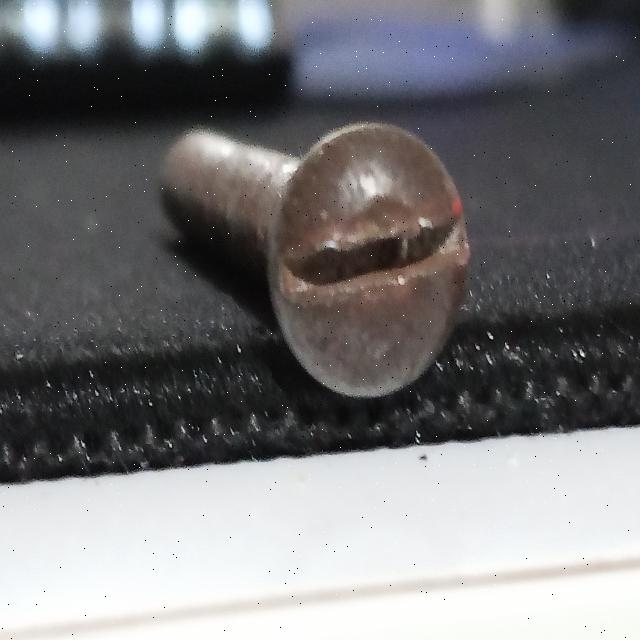Slotted: (264, 142, 484, 410)
